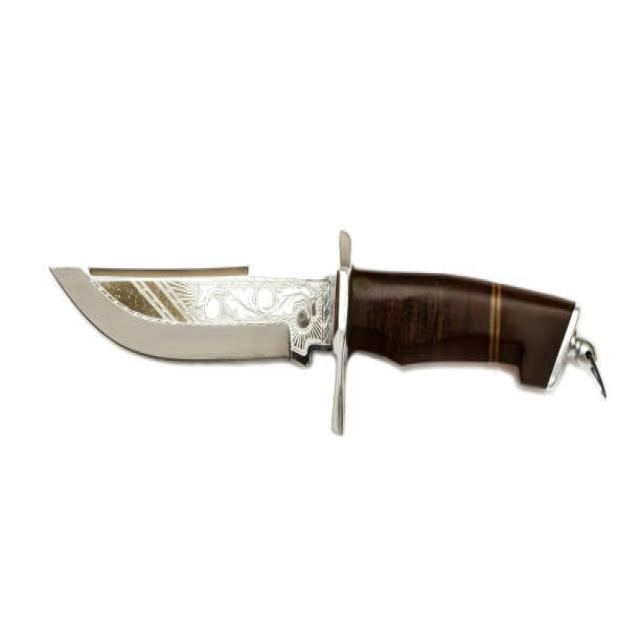knife: (41, 221, 609, 451)
